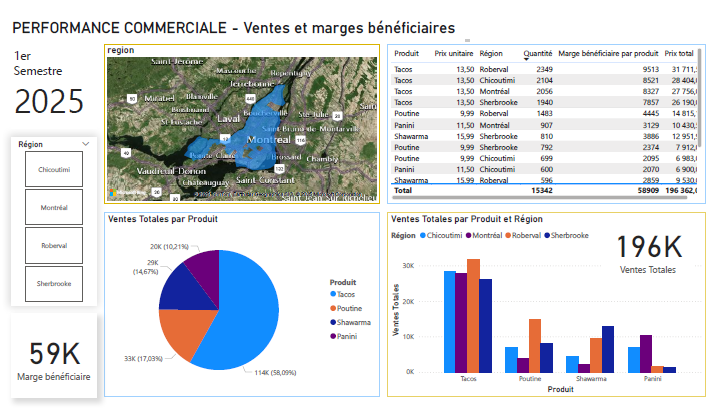

The page's visual inventory and layout, read from the dashboard file:
{"tool":"powerbi","page":{"name":"Page 1","canvas":[1280,720],"ordinal":0},"visuals":[{"type":"pieChart","fields":{"Category":["ventes_data_pretraite.produitxxx"],"Y":["ventes_data_pretraite.Ventes Totales"]},"box":[181.7,360,495,331.7],"z":0},{"type":"tableEx","fields":{"Values":["ventes_data_pretraite.prix_unitaire","ventes_data_pretraite.region","Sum(ventes_data_pretraite.quantité)","ventes_data_pretraite.Marge Estimée","ventes_data_pretraite.produitxxx","Sum(ventes_data_pretraite.prix_totalxxx)"]},"box":[690,58.3,571.7,286.7],"z":1000},{"type":"slicer","fields":{"Values":["ventes_data_pretraite.region"]},"box":[15,225,153.3,301.7],"z":2000},{"type":"clusteredColumnChart","fields":{"Y":["ventes_data_pretraite.Ventes Totales"],"Series":["ventes_data_pretraite.region"],"Category":["ventes_data_pretraite.produitxxx"]},"box":[690,360,572,332],"z":3000},{"type":"card","fields":{"Values":["ventes_data_pretraite.Ventes Totales"]},"box":[1078.4,362.8,159.6,122.6],"z":4000},{"type":"card","fields":{"Values":["ventes_data_pretraite.Marge Estimée"]},"box":[15,541.7,153.3,150],"z":5000},{"type":"textbox","box":[15,58.3,153.3,151.7],"z":6000},{"type":"filledMap","fields":{"Category":["ventes_data_pretraite.region"]},"box":[181.7,58.3,495,286.7],"z":7000},{"type":"textbox","title":"PERFORMANCE COMMERCIALE -  Ventes et marges bénéficiaires","box":[11.7,13.3,831.7,45],"z":8000}]}

Visuals, with their boxes on the page's 1280x720 design canvas (x1, y1, x2, y2). These are canvas units, not pixel positions in the 713x418 screenshot, which may show the page scaled, cropped or inside an application window:
pieChart - ventes_data_pretraite.produitxxx x ventes_data_pretraite.Ventes Totales: (182,360,677,692)
tableEx - ventes_data_pretraite.prix_unitaire x ventes_data_pretraite.region: (690,58,1262,345)
slicer - ventes_data_pretraite.region: (15,225,168,527)
clusteredColumnChart - ventes_data_pretraite.Ventes Totales x ventes_data_pretraite.region: (690,360,1262,692)
card - ventes_data_pretraite.Ventes Totales: (1078,363,1238,485)
card - ventes_data_pretraite.Marge Estimée: (15,542,168,692)
textbox: (15,58,168,210)
filledMap - ventes_data_pretraite.region: (182,58,677,345)
"PERFORMANCE COMMERCIALE -  Ventes et marges bénéficiaires" textbox: (12,13,843,58)
